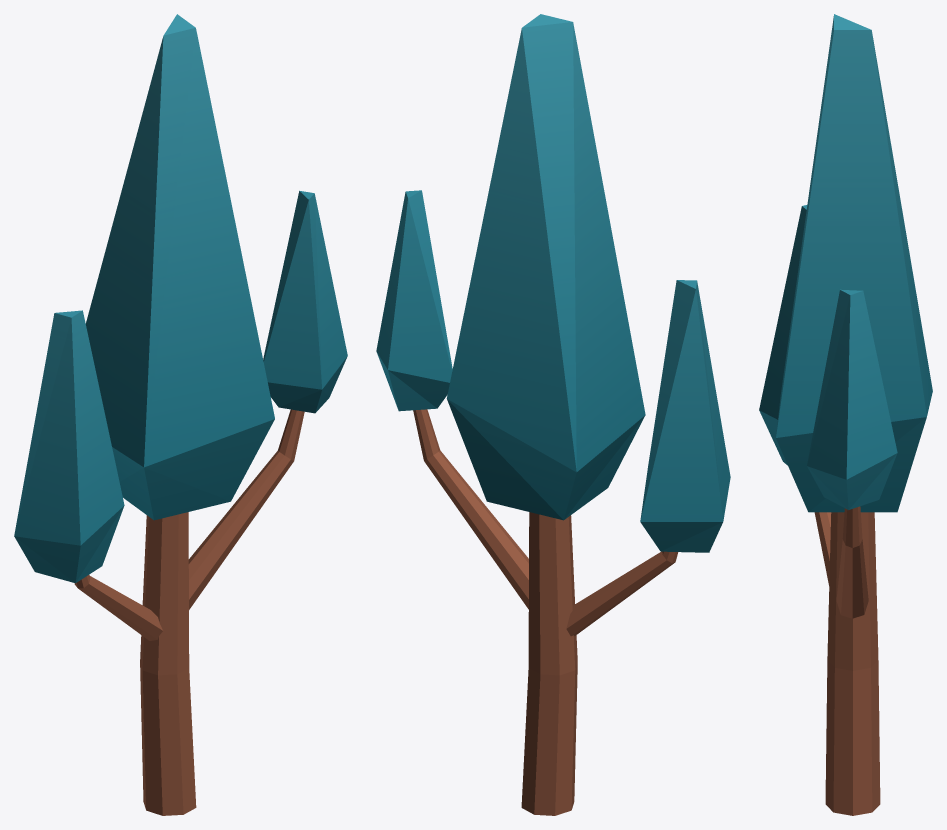
The model's file is Tree_50_gradient_blue_pal.fbx.
The picture shows the model from 3 angles, left to right: view 1: azimuth 30°, elevation 25°; view 2: azimuth 150°, elevation 25°; view 3: azimuth 270°, elevation 25°; orthographic projection.
Parts seen in each view (by area): view 1: Tree_50_gradient_blue_pal; view 2: Tree_50_gradient_blue_pal; view 3: Tree_50_gradient_blue_pal.
Boxes of the visible parts, x1,y1,x2,y2 form: Tree_50_gradient_blue_pal: (14, 14, 347, 815); Tree_50_gradient_blue_pal: (376, 14, 730, 815); Tree_50_gradient_blue_pal: (759, 14, 932, 815).
Size of the model in its own units: 118 by 259 by 52.22.
